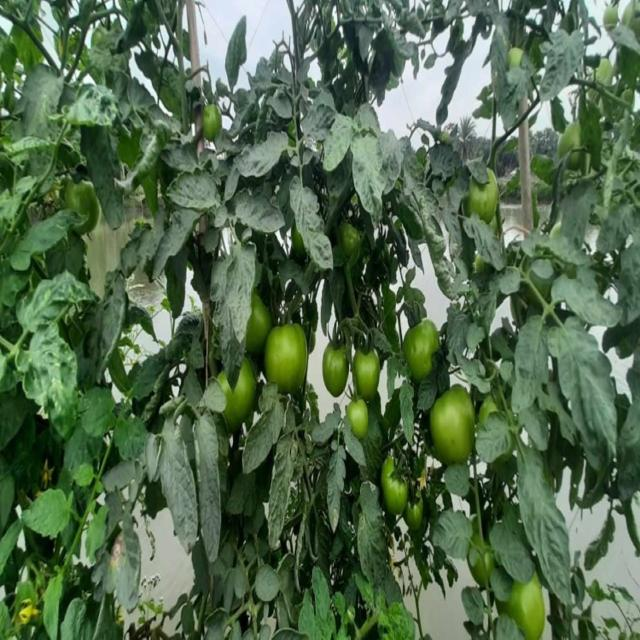tomato: (428, 384, 475, 464), (268, 320, 309, 400), (220, 372, 263, 425), (514, 582, 553, 640), (405, 319, 438, 381), (323, 341, 353, 399), (65, 169, 101, 215), (382, 457, 409, 516), (472, 175, 500, 225), (355, 351, 382, 399), (250, 299, 274, 353), (561, 115, 582, 167), (200, 104, 223, 138), (351, 400, 371, 435), (405, 495, 426, 528), (621, 1, 640, 36), (345, 214, 361, 251), (597, 54, 609, 86), (603, 7, 619, 29), (506, 36, 523, 54)
